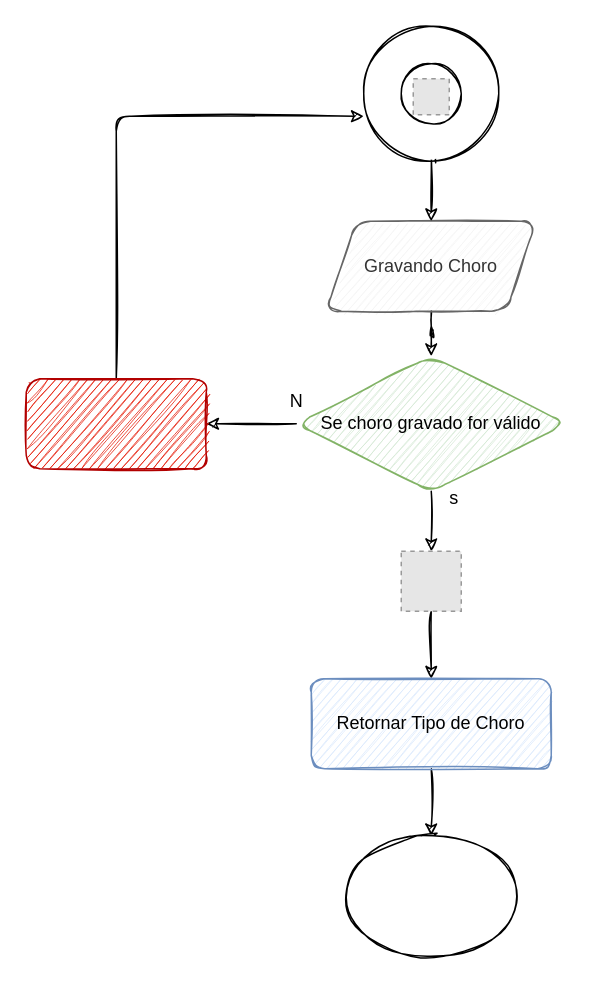
This 593x983 diagram has some shape labels left out. Grey dashed boxes stand in for pictures. Here are the shapes that lost their labels. From the top down, the centre of each, then its label:
At [115,423]: "Gravar Choro Novamente".
At [430,895]: "FIm".
